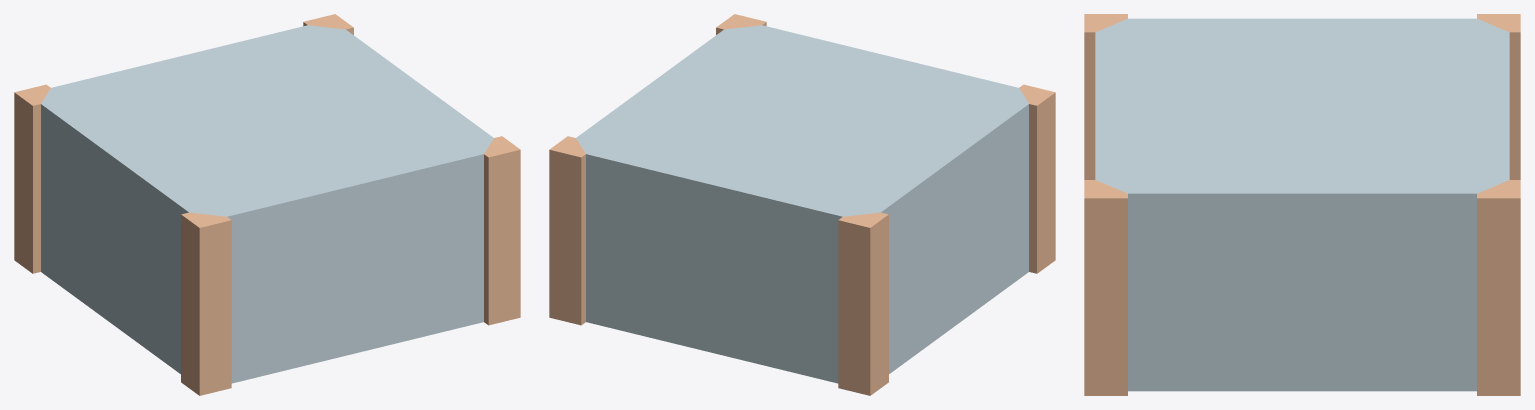
Rendered from wallBlockHalf.glb.
The picture shows the model from 3 angles, left to right: view 1: azimuth 30°, elevation 25°; view 2: azimuth 150°, elevation 25°; view 3: azimuth 270°, elevation 25°; orthographic projection. The views are drawn at different scales.
Visible parts, largest first — view 1: wallBlockHalf; view 2: wallBlockHalf; view 3: wallBlockHalf.
Part boxes in pixels (x1,y1,x2,y2): wallBlockHalf: [14, 14, 520, 395]; wallBlockHalf: [549, 14, 1055, 395]; wallBlockHalf: [1084, 14, 1520, 395].
Size of the model in its own units: 1 by 0.5 by 1.
